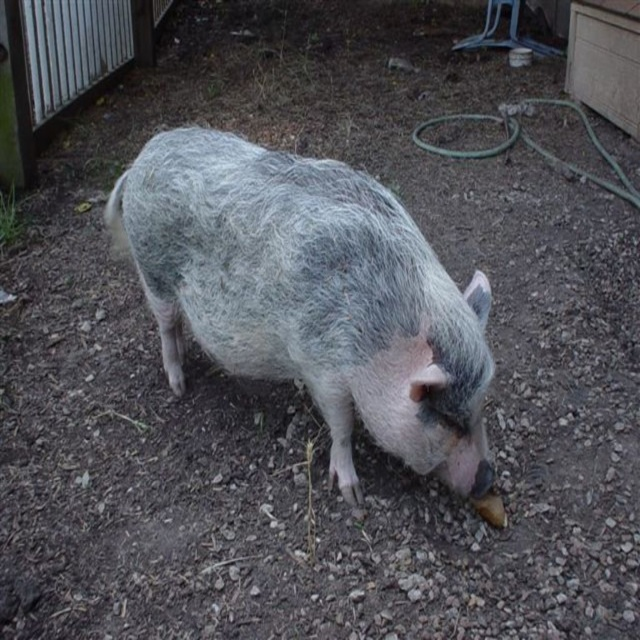Pig: (109, 123, 498, 539)
